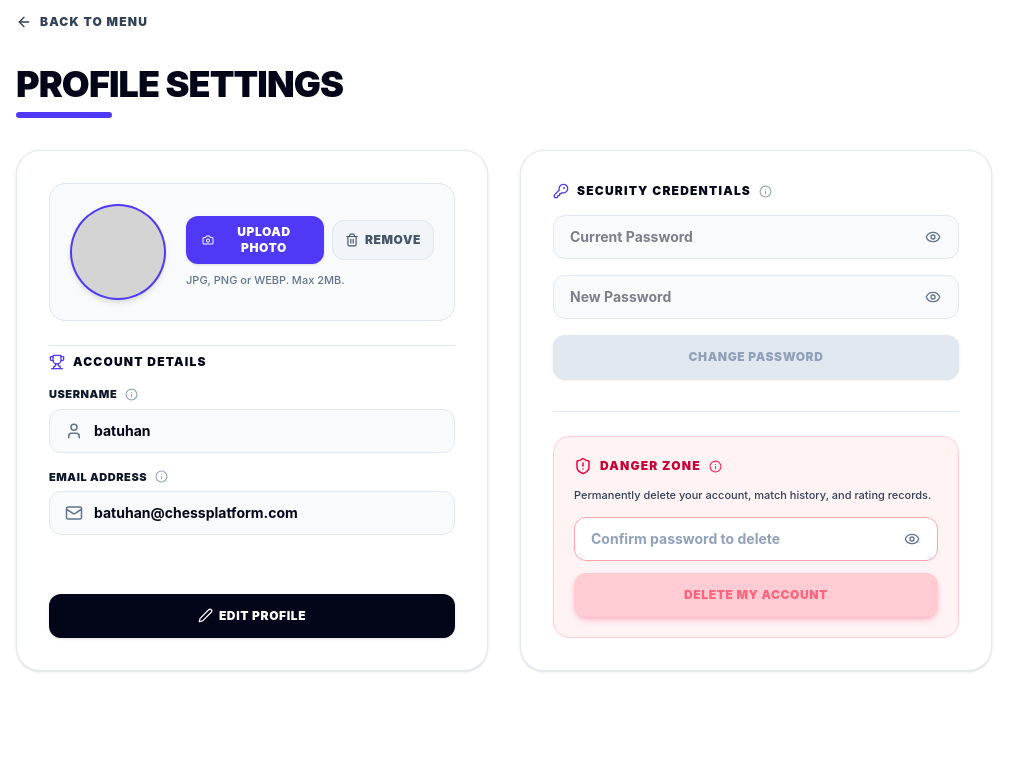
Test: ProfileDashboard Component › deletes avatar and reverts to initial fallback when remove button is clicked
Click the button "Remove" at (383, 240), box [332,220,434,260]
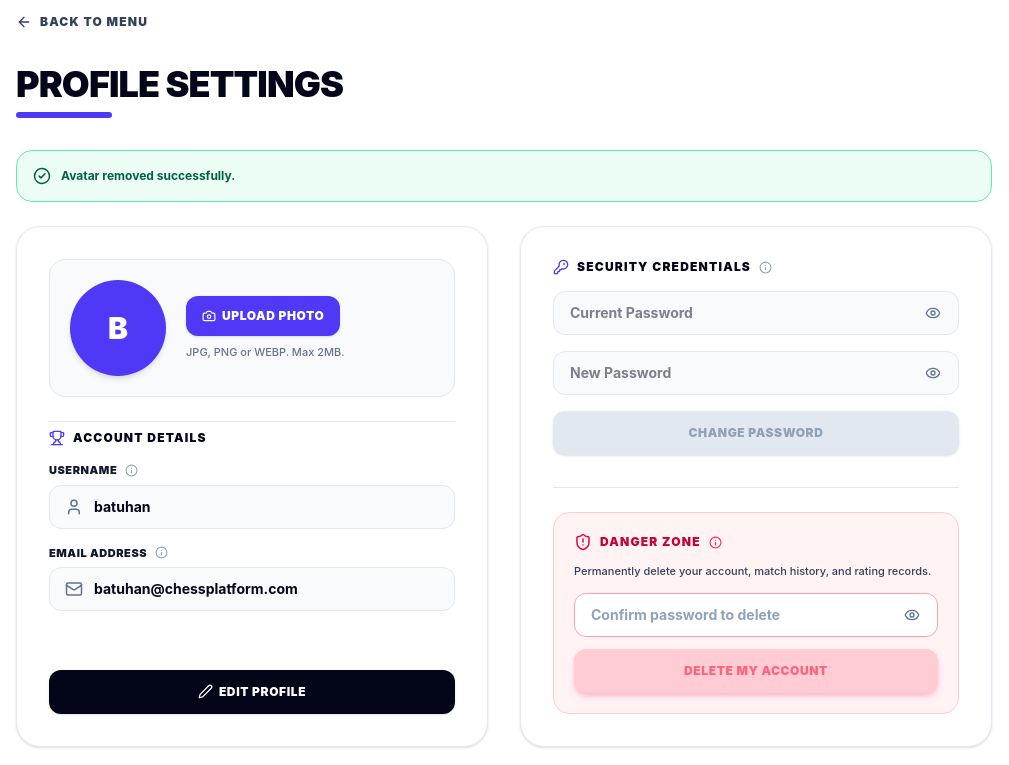
Check: the text "Avatar removed successfully." is shown, box [61,168,235,184]
Check: the text "B" is shown, box [108,310,128,346]
